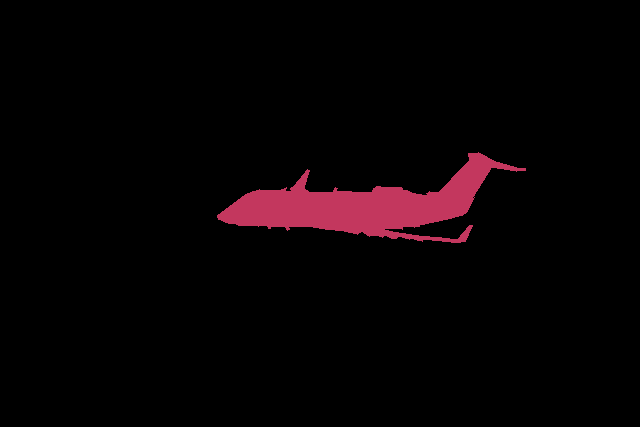Airplane: (217, 152, 526, 243)
